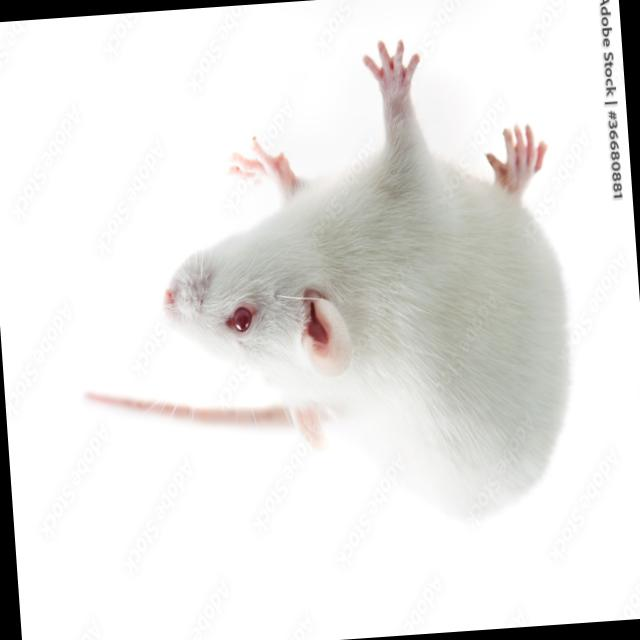rodents: (145, 107, 594, 564)
